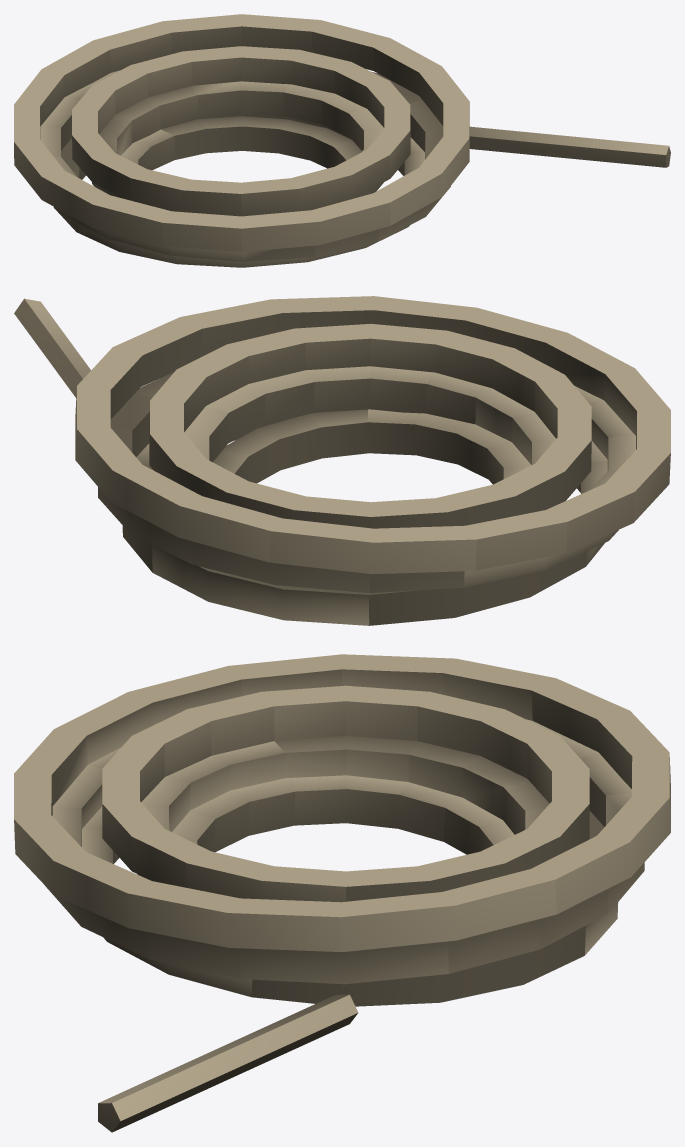
File: rope_coil.glb
The picture shows the model from 3 angles, top to bottom: view 1: azimuth 30°, elevation 25°; view 2: azimuth 150°, elevation 25°; view 3: azimuth 270°, elevation 25°; orthographic projection. The views are drawn at different scales.
Visible parts, largest first — view 1: static; view 2: static; view 3: static.
Boxes of the visible parts, x1,y1,x2,y2 form: static: (14, 14, 670, 267); static: (14, 296, 670, 625); static: (14, 654, 670, 1132).
Bounding box in the file's own units: 0.9658 × 0.1452 × 0.6905.
